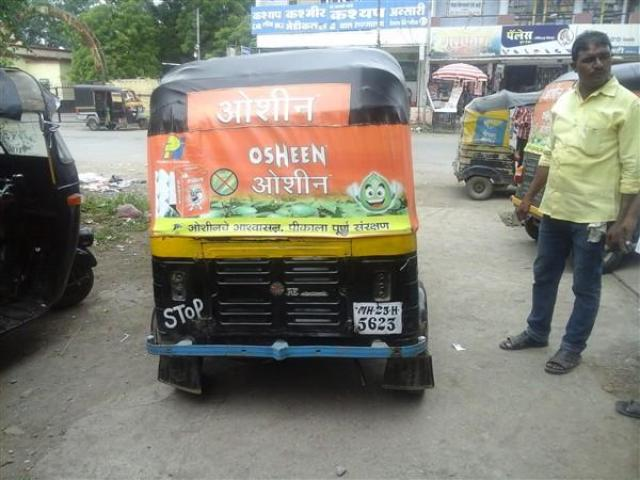doublelinenumberplate: (349, 297, 404, 336)
